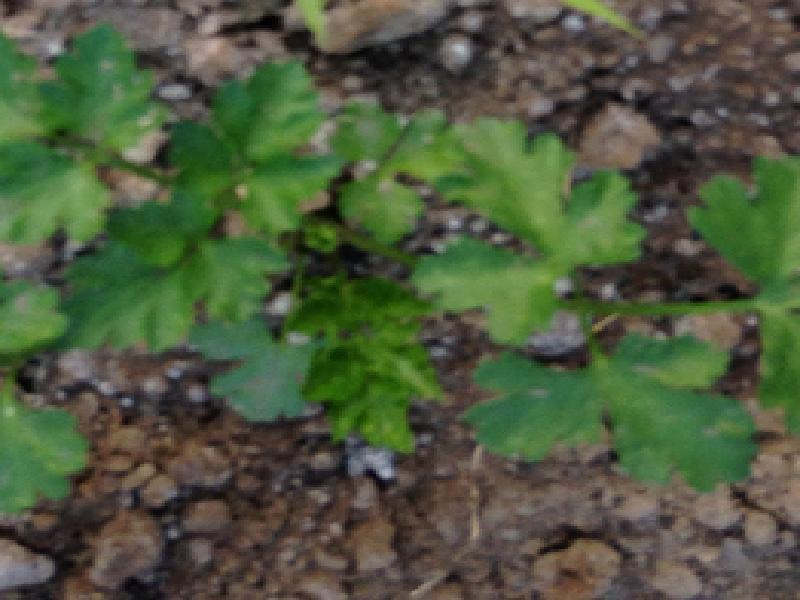radish: (29, 0, 674, 584)
